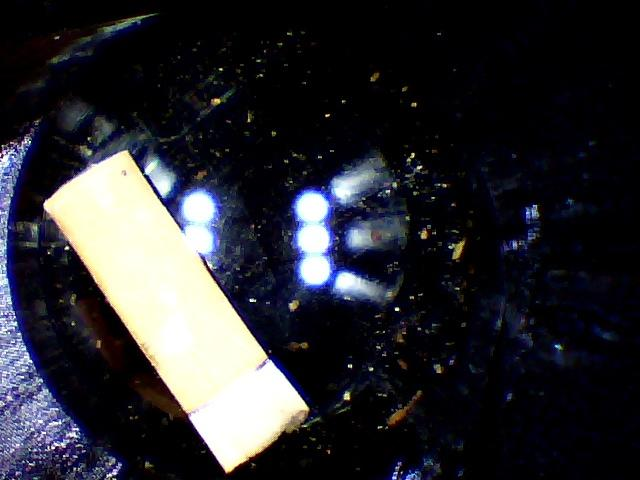megot: (39, 143, 315, 476)
